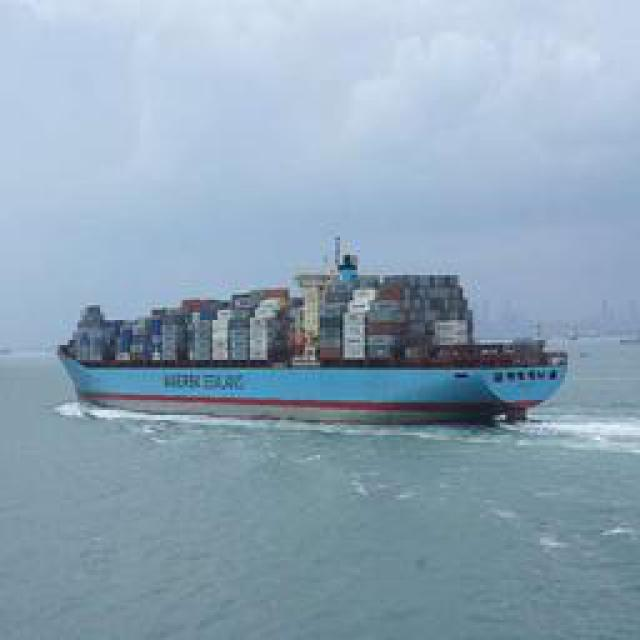Ship: (60, 234, 570, 424)
